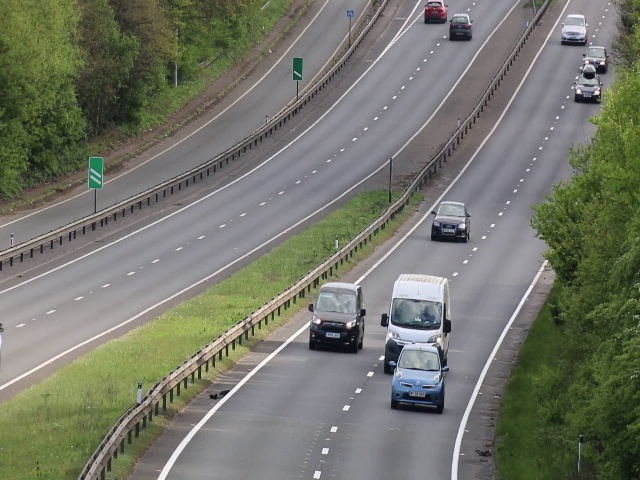car: (392, 282, 447, 362), (390, 341, 447, 415), (311, 285, 361, 353), (431, 202, 468, 244), (560, 13, 586, 45), (576, 72, 602, 103), (447, 13, 473, 40), (423, 1, 447, 23), (585, 45, 608, 67)
